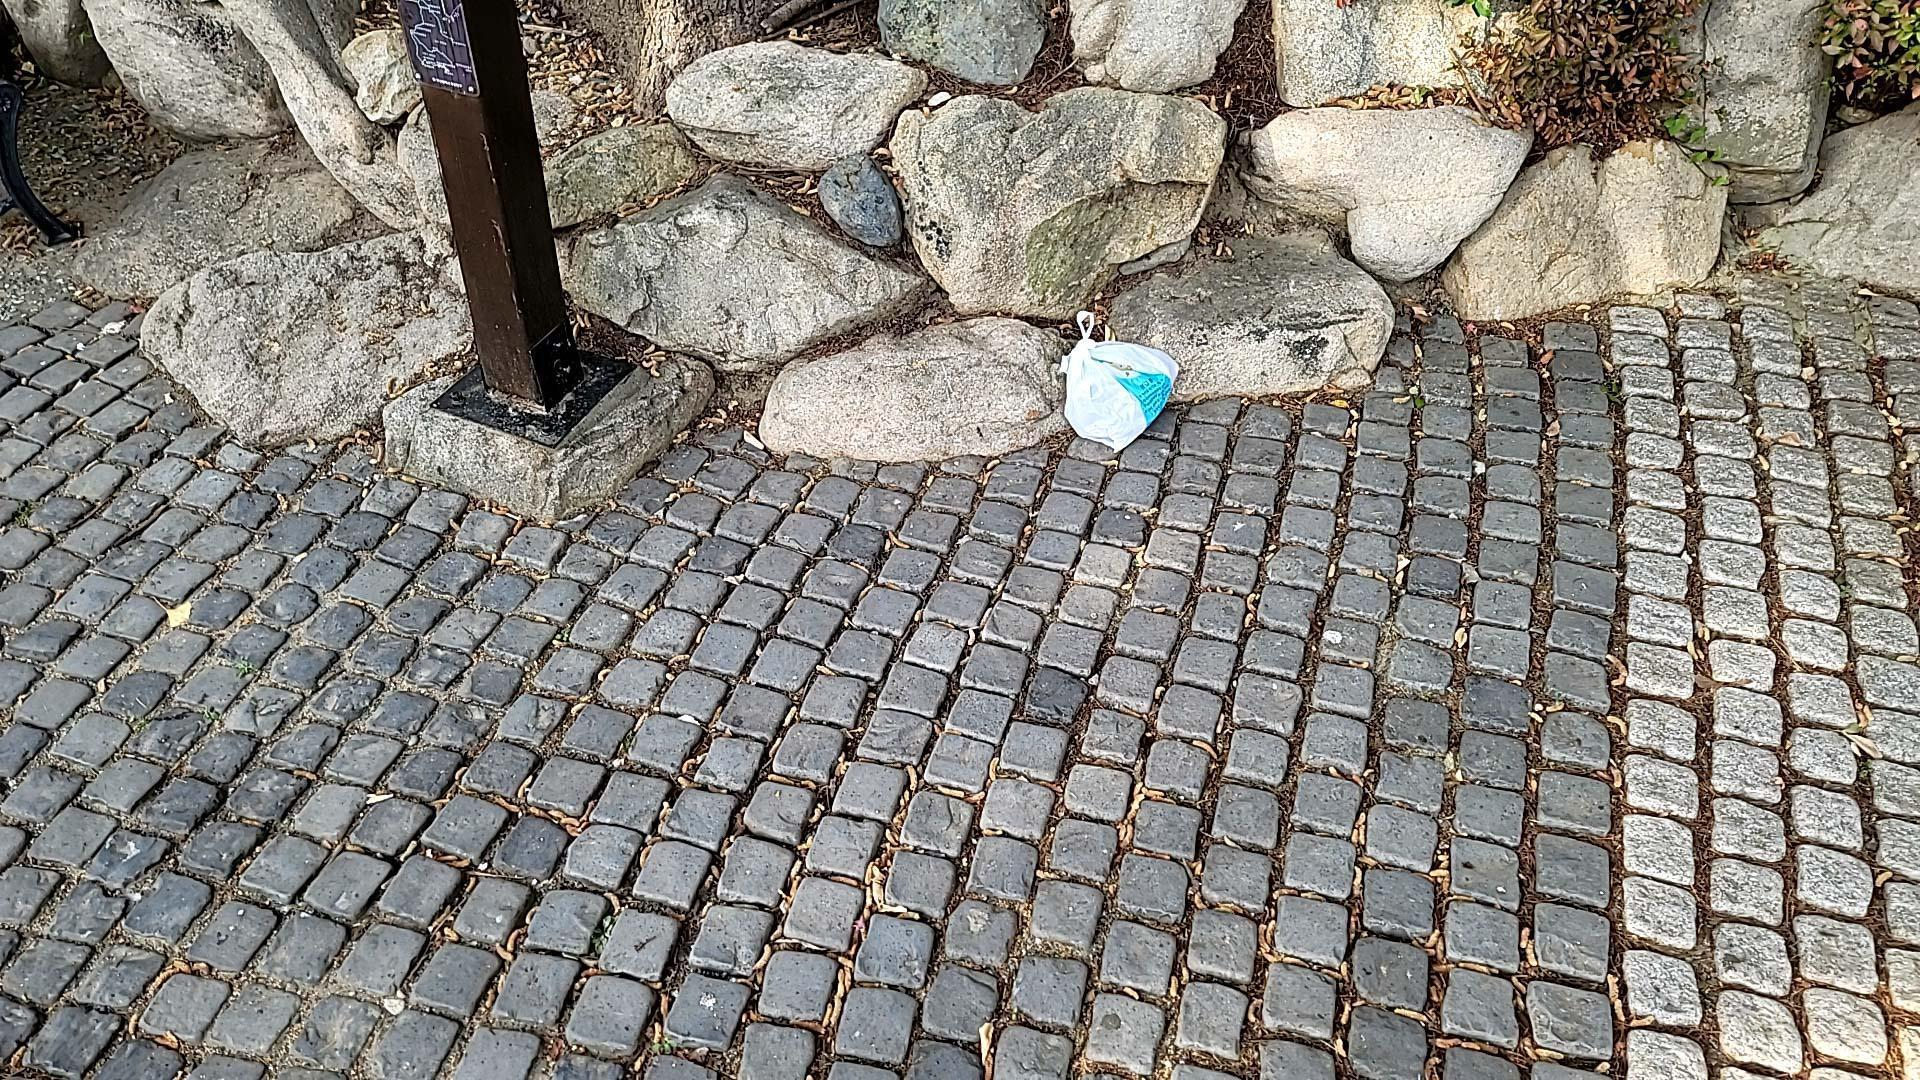white_bag: (1040, 306, 1187, 458)
